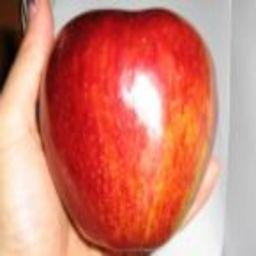apple: (39, 5, 216, 252)
